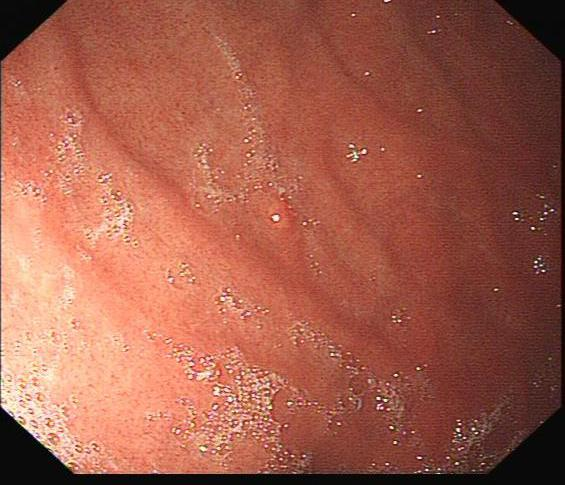Polyp: (254, 190, 321, 255)
